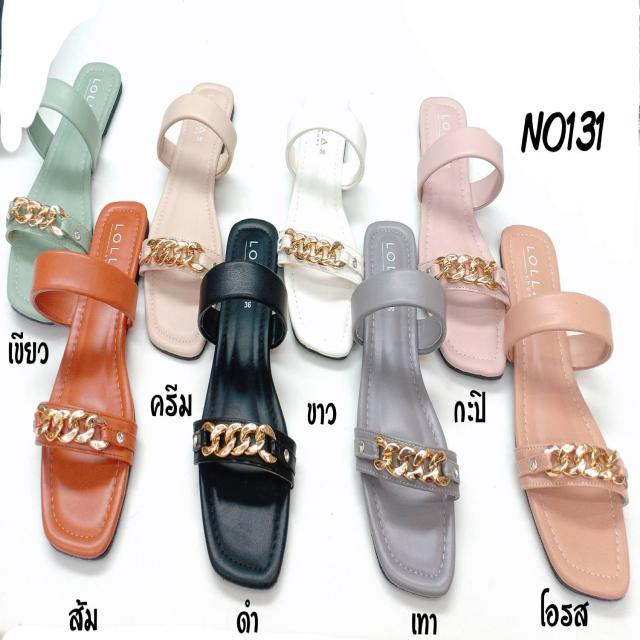black: (199, 222, 285, 580)
cream: (144, 85, 231, 352)
green: (7, 67, 124, 318)
grey: (356, 221, 456, 595)
kapi: (417, 97, 505, 378)
orange: (41, 200, 148, 558)
orot: (500, 224, 626, 598)
white: (283, 104, 356, 359)
